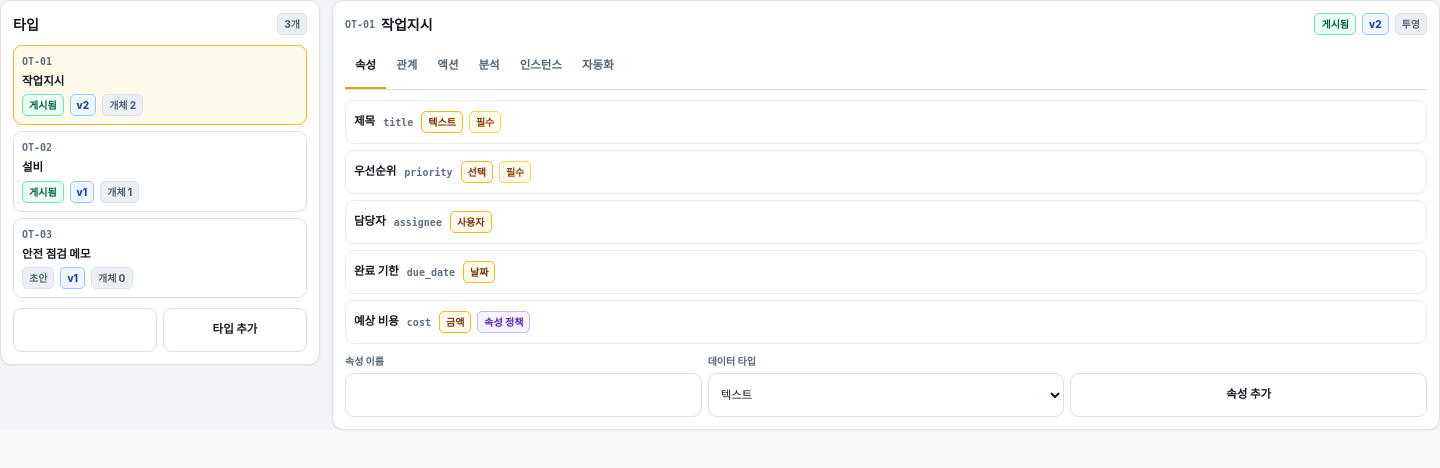
Test: OntologyManagerScreen (design change-log 63) › creates a draft type via the inline add path and selects it
Type "구매 요청" into the field named "새 타입 이름" at {"x": 85, "y": 330}, box [13,308,157,352]
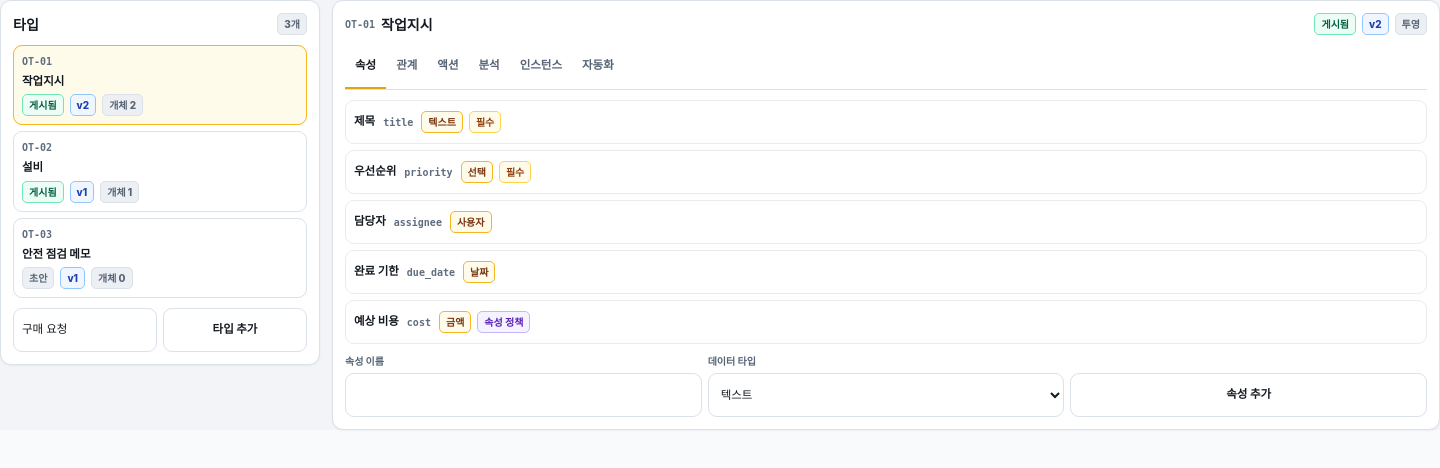
Click the button "타입 추가" at {"x": 235, "y": 330}, box [163,308,307,352]
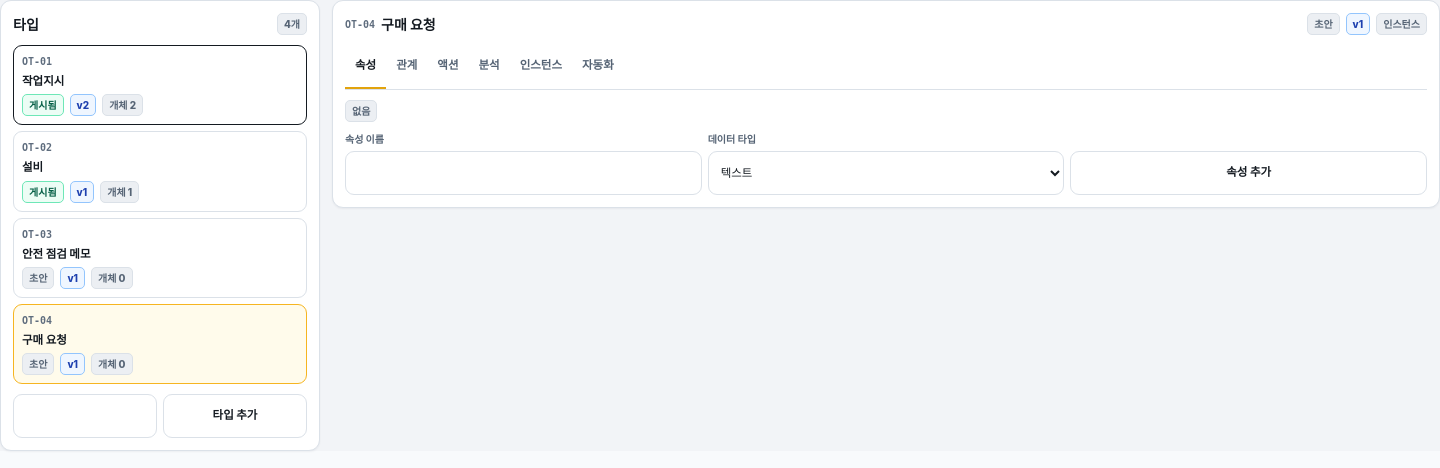
Check: the 1st text "초안" is shown, box [1307,13,1340,35]
